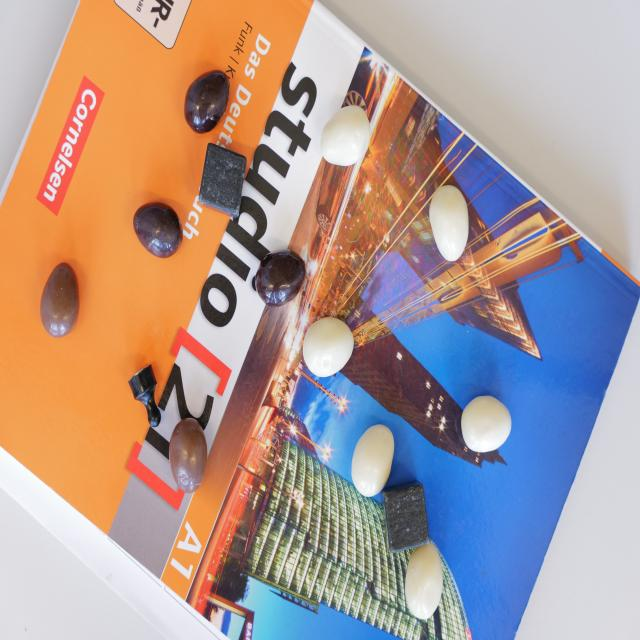Jelly_Black: (183, 69, 231, 132), (255, 248, 306, 305), (134, 200, 182, 255)
Jelly_Milk: (42, 259, 80, 339), (170, 418, 208, 493)
Jelly_White: (406, 539, 446, 624), (353, 421, 394, 498), (305, 315, 355, 378), (431, 184, 469, 260), (463, 394, 511, 454), (322, 107, 370, 164)
